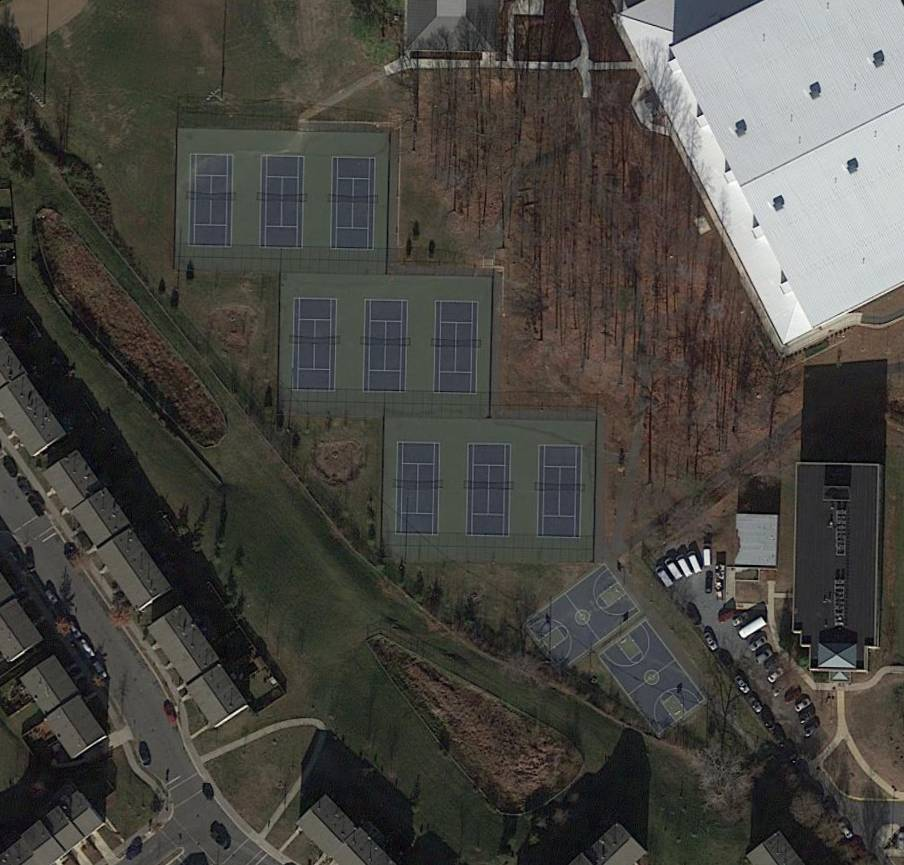basketball court: (524, 564, 640, 672), (599, 621, 707, 735)
large vehicle: (739, 615, 769, 641), (662, 556, 685, 581), (654, 564, 676, 589), (686, 549, 705, 574), (676, 553, 695, 578), (699, 543, 715, 566)
small vehicle: (208, 823, 235, 854), (72, 635, 97, 663), (684, 602, 706, 630), (87, 658, 111, 683), (767, 676, 793, 697), (161, 700, 180, 727), (781, 684, 803, 707), (43, 586, 63, 611), (63, 618, 81, 644), (123, 843, 145, 864), (63, 547, 83, 570), (793, 694, 814, 714), (732, 674, 752, 695), (136, 746, 154, 768), (749, 634, 769, 653), (717, 651, 736, 671), (746, 694, 764, 715), (755, 646, 774, 665), (701, 632, 720, 651), (731, 609, 751, 627), (767, 664, 785, 684), (719, 608, 738, 626), (797, 707, 816, 724), (702, 573, 714, 594)
tennis court: (363, 299, 410, 392), (331, 157, 377, 251), (396, 442, 442, 535), (292, 298, 338, 391), (467, 443, 512, 537), (260, 156, 305, 250), (189, 154, 234, 247), (538, 446, 583, 538), (434, 301, 479, 393)
